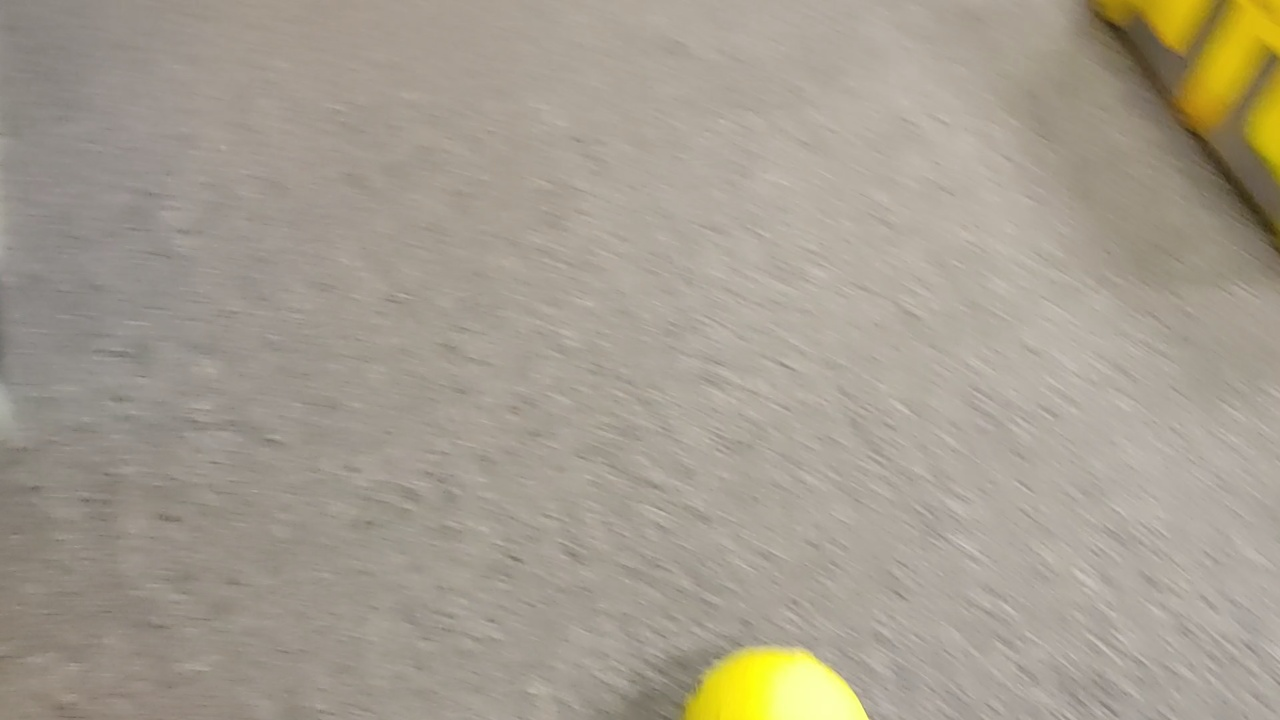Ball: (678, 640, 871, 720)
